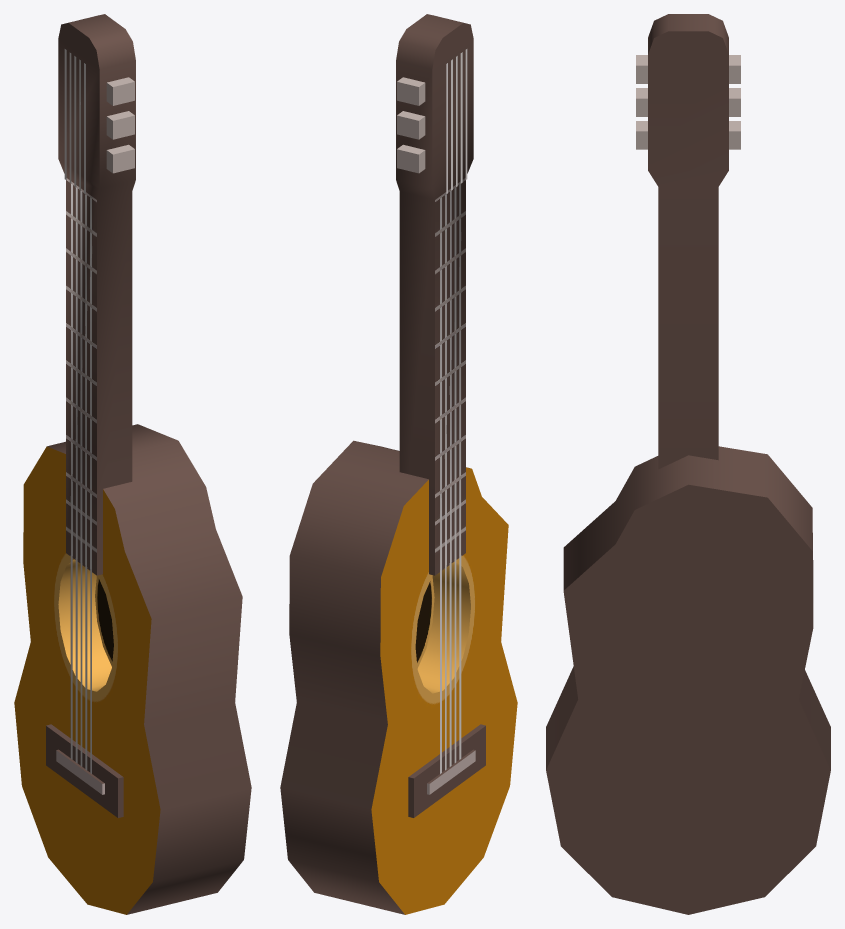
File: Guitar.fbx
The picture shows the model from 3 angles, left to right: view 1: azimuth 30°, elevation 25°; view 2: azimuth 150°, elevation 25°; view 3: azimuth 270°, elevation 25°; orthographic projection. The views are drawn at different scales.
Visible parts, largest first — view 1: Whistle; view 2: Whistle; view 3: Whistle.
Boxes of the visible parts, box(x1,y1,x2,y2) form: Whistle: box(14, 14, 251, 914); Whistle: box(280, 14, 517, 914); Whistle: box(546, 14, 830, 914).
Bounding box in the file's own units: 0.2508 × 2.03 × 0.6149.
Materials: 1 (1 with a texture image).
